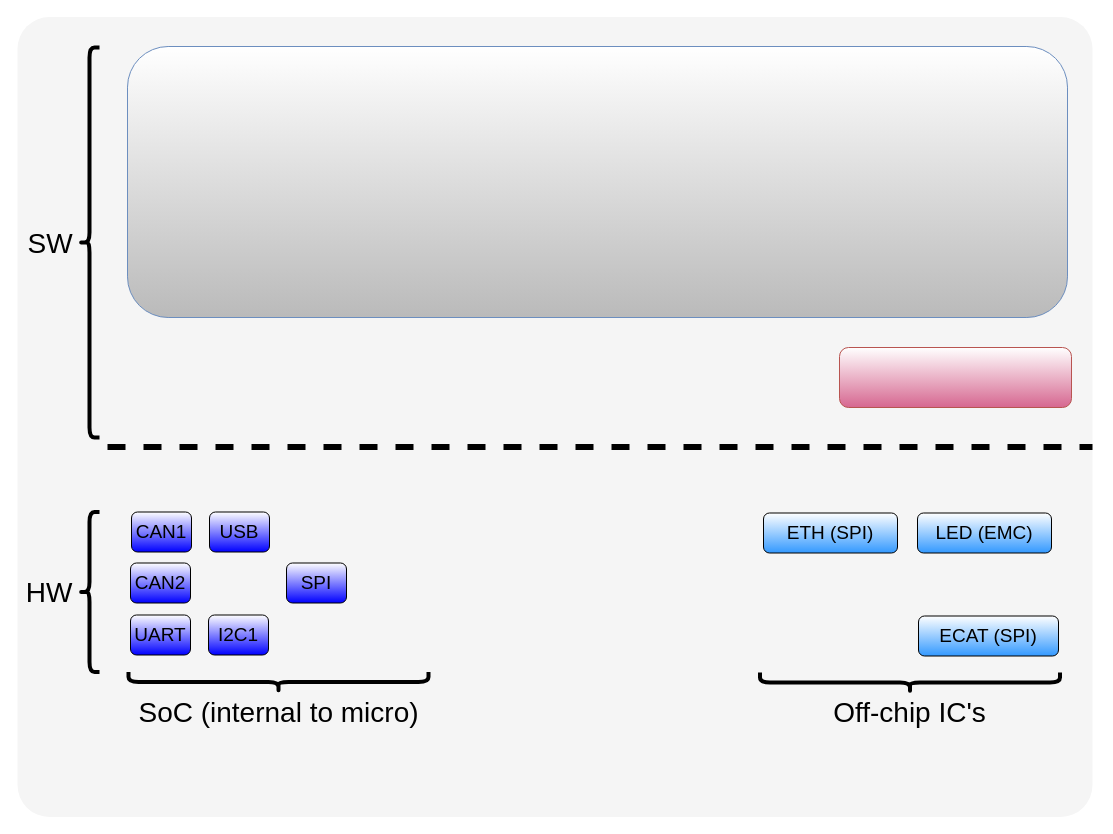
Some shapes in this 1113 by 834 pixel diagram are drawn without their labels. Each missing label, with the centre of its shape:
"Application" goes at point (597, 182).
"Middle-Ware" goes at point (955, 377).
